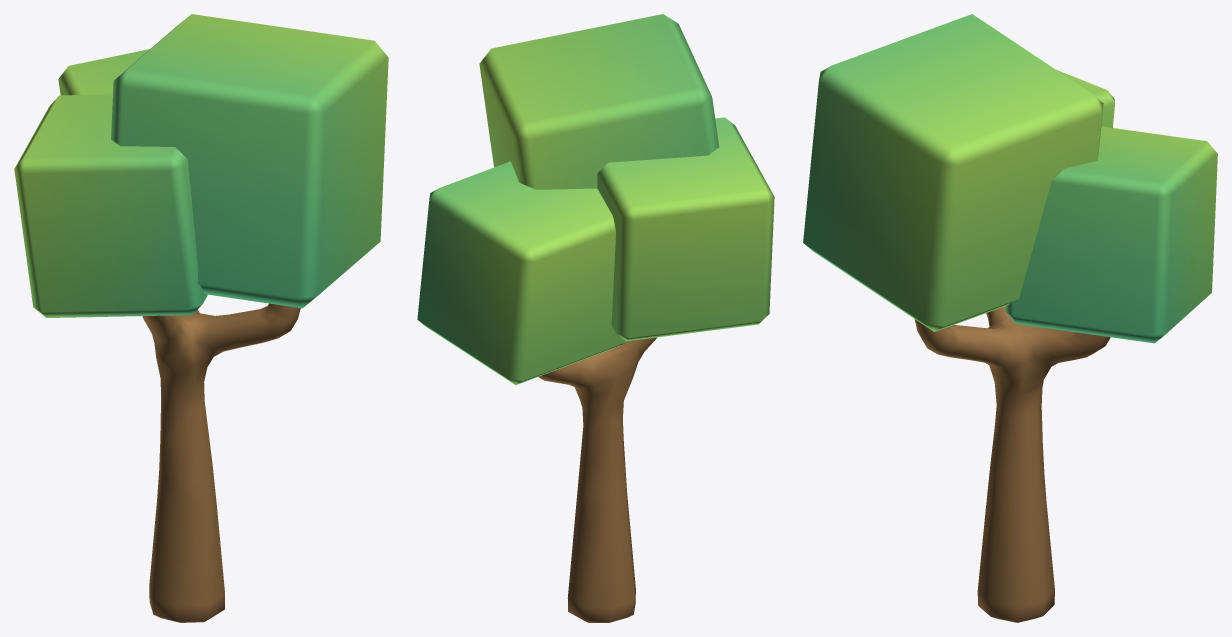
Rendered from tree1.glb.
The picture shows the model from 3 angles, left to right: view 1: azimuth 30°, elevation 25°; view 2: azimuth 150°, elevation 25°; view 3: azimuth 270°, elevation 25°; orthographic projection. The views are drawn at different scales.
Parts seen in each view (by area): view 1: Plane.002; view 2: Plane.002; view 3: Plane.002.
Boxes of the visible parts, x1,y1,x2,y2 form: Plane.002: [14, 14, 388, 622]; Plane.002: [417, 14, 774, 622]; Plane.002: [803, 14, 1217, 622].
Size of the model in its own units: 285 by 466 by 313.
Materials: 1 (1 with a texture image).
